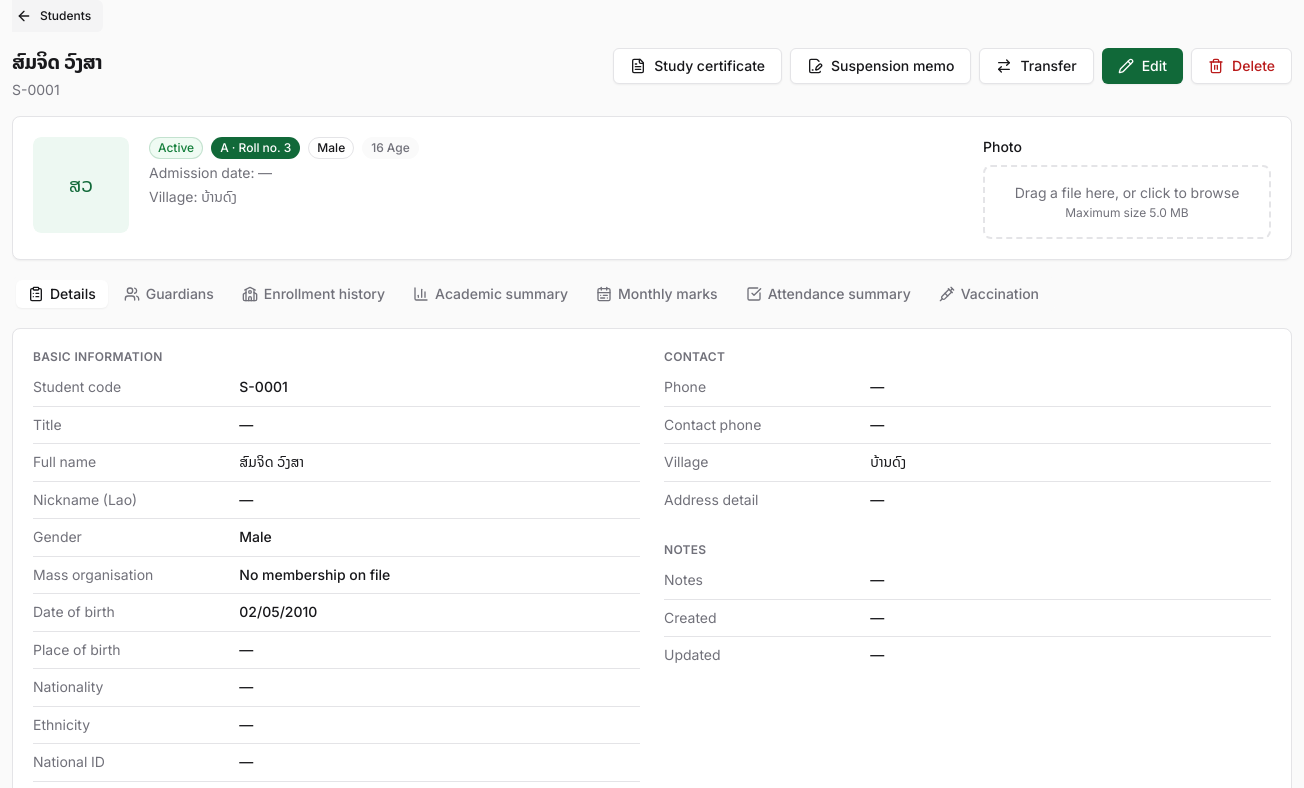
it: offers the terminal moves from the enrollment history too
Click the tab "Enrollment history" at {"x": 313, "y": 294}, box [230,280,397,308]
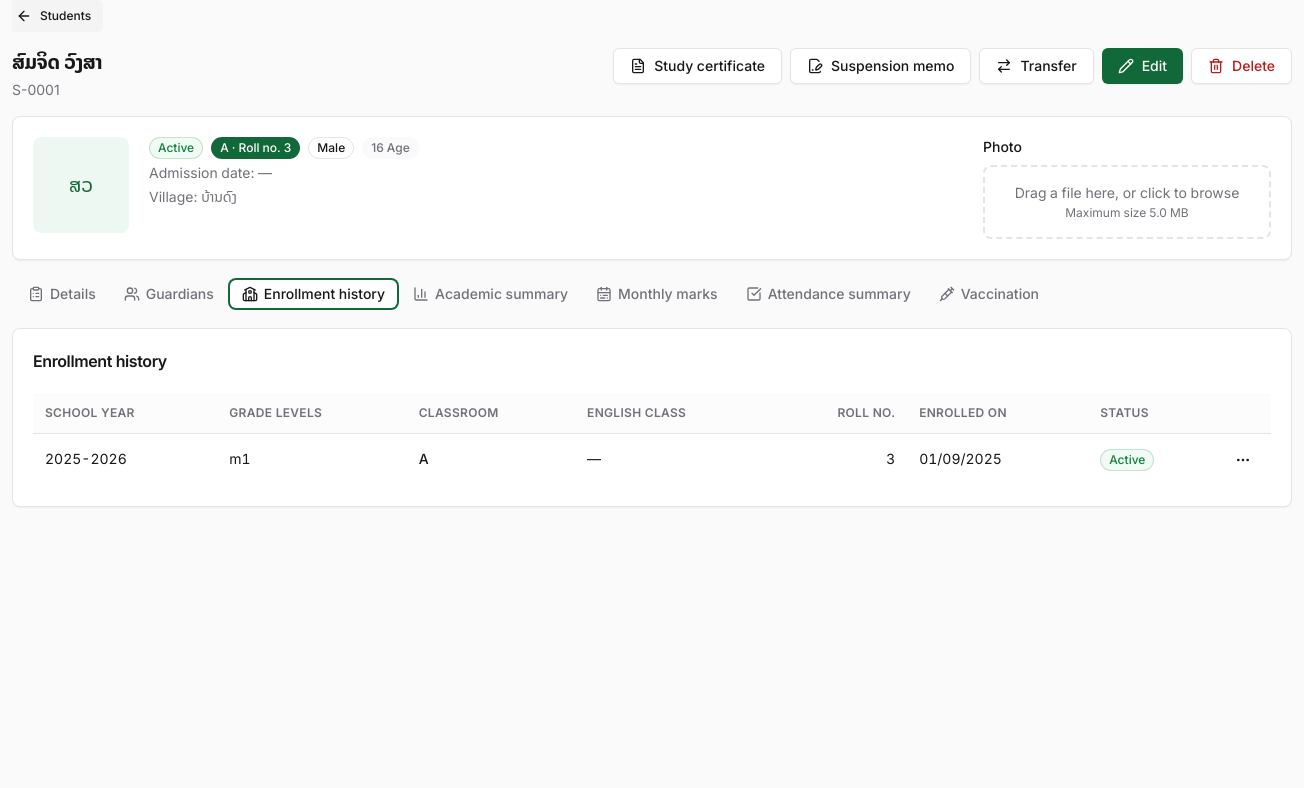
Click the button named "actions" at {"x": 1243, "y": 460}, box [1227,444,1259,476]
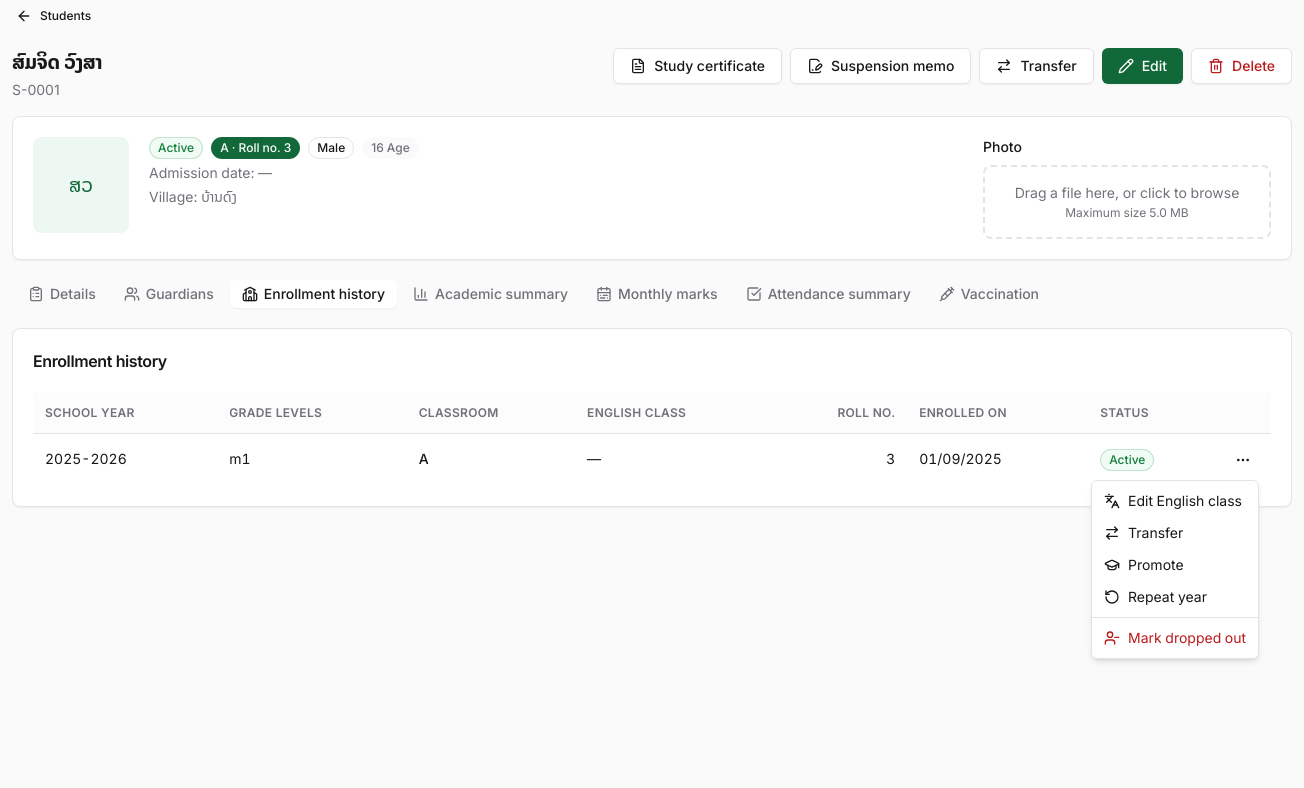
Expected: the menu item "Transfer" is shown, [1104,521,1183,544]
Expected: the menu item "Promote" is shown, [1104,553,1184,576]
Expected: the menu item "Repeat year" is shown, [1104,585,1207,608]
